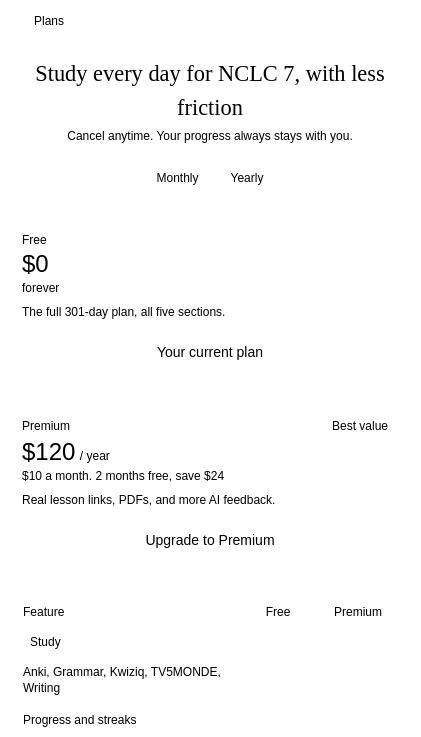
Test case: Plans screen › says payments aren't switched on while Stripe isn't set up
This screenshot has width=421, height=737.
Click the button "Upgrade to Premium" at (210, 540), box [22,520,398,560]
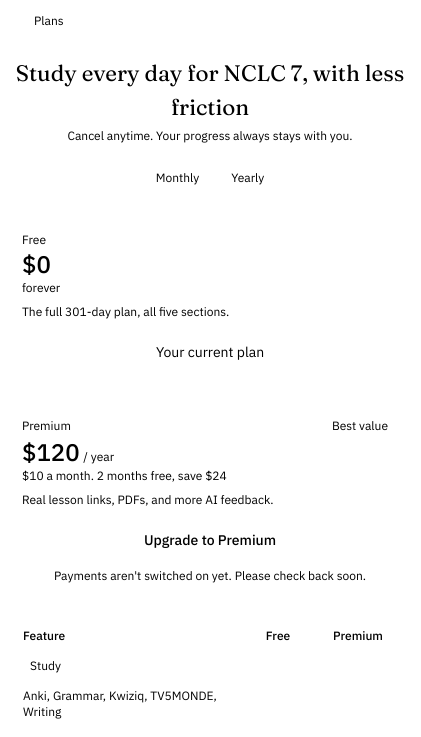
Check: the message shows "aren't switched on", box [54,568,366,583]
